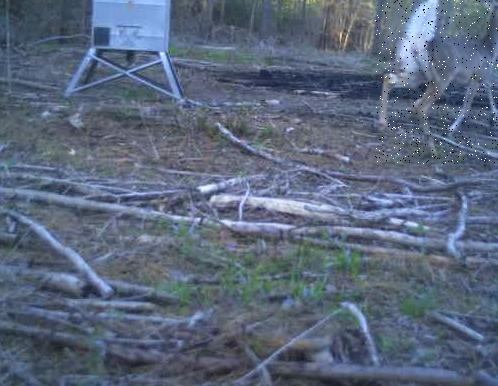Deer: (375, 0, 498, 164)
